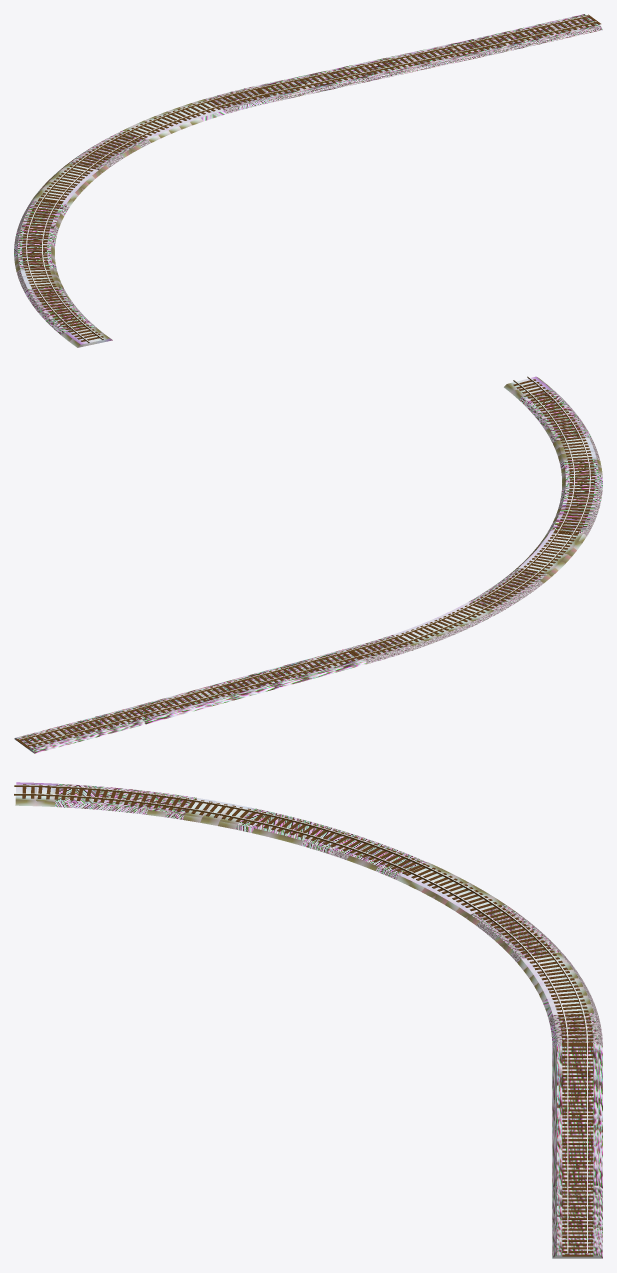
File: GMLID_48290571_3377_526.dae
3 renders of one model, top to bottom at view 1: azimuth 30°, elevation 25°; view 2: azimuth 210°, elevation 25°; view 3: azimuth 270°, elevation 25°, orthographic. The views are drawn at different scales.
Bounding box in the file's own units: 111 × 61.46 × 3.62.
5 materials, 1 textured.
